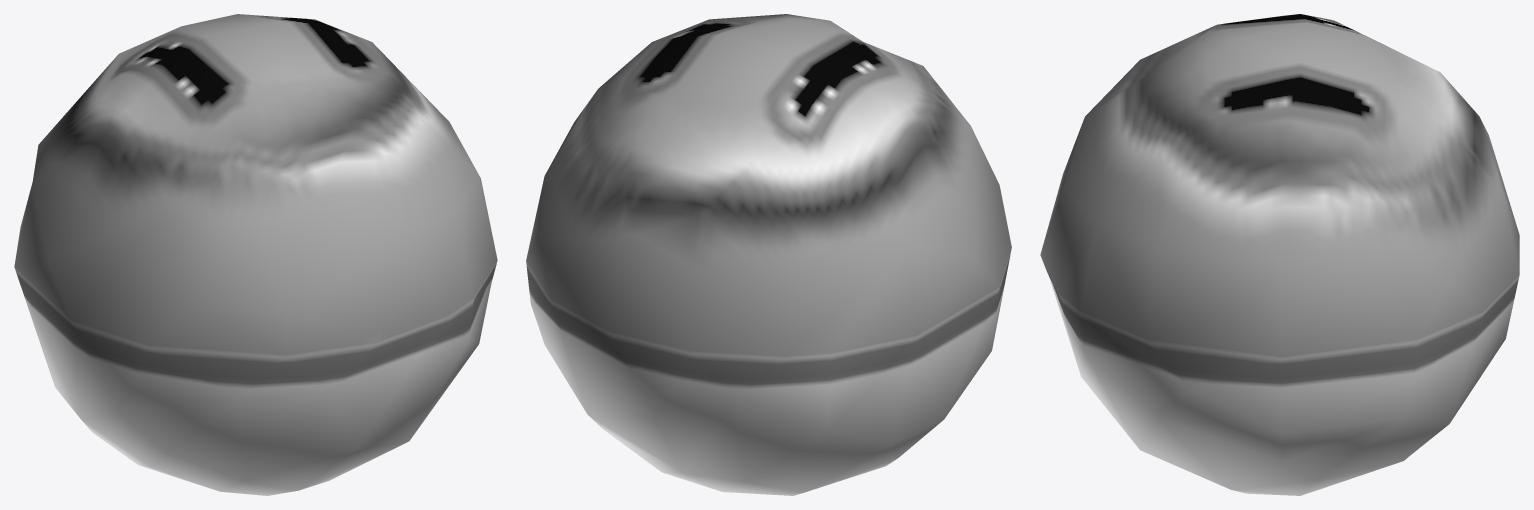
The model's file is Ball.fbx.
3 views of the same model, side by side, from view 1: azimuth 30°, elevation 25°; view 2: azimuth 150°, elevation 25°; view 3: azimuth 270°, elevation 25° (orthographic).
Parts seen in each view (by area): view 1: Sphere01; view 2: Sphere01; view 3: Sphere01.
Boxes of the visible parts, x1,y1,x2,y2 form: Sphere01: (14, 14, 497, 495); Sphere01: (526, 14, 1011, 495); Sphere01: (1040, 14, 1519, 495).
Size of the model in its own units: 49.52 by 49.04 by 49.52.
